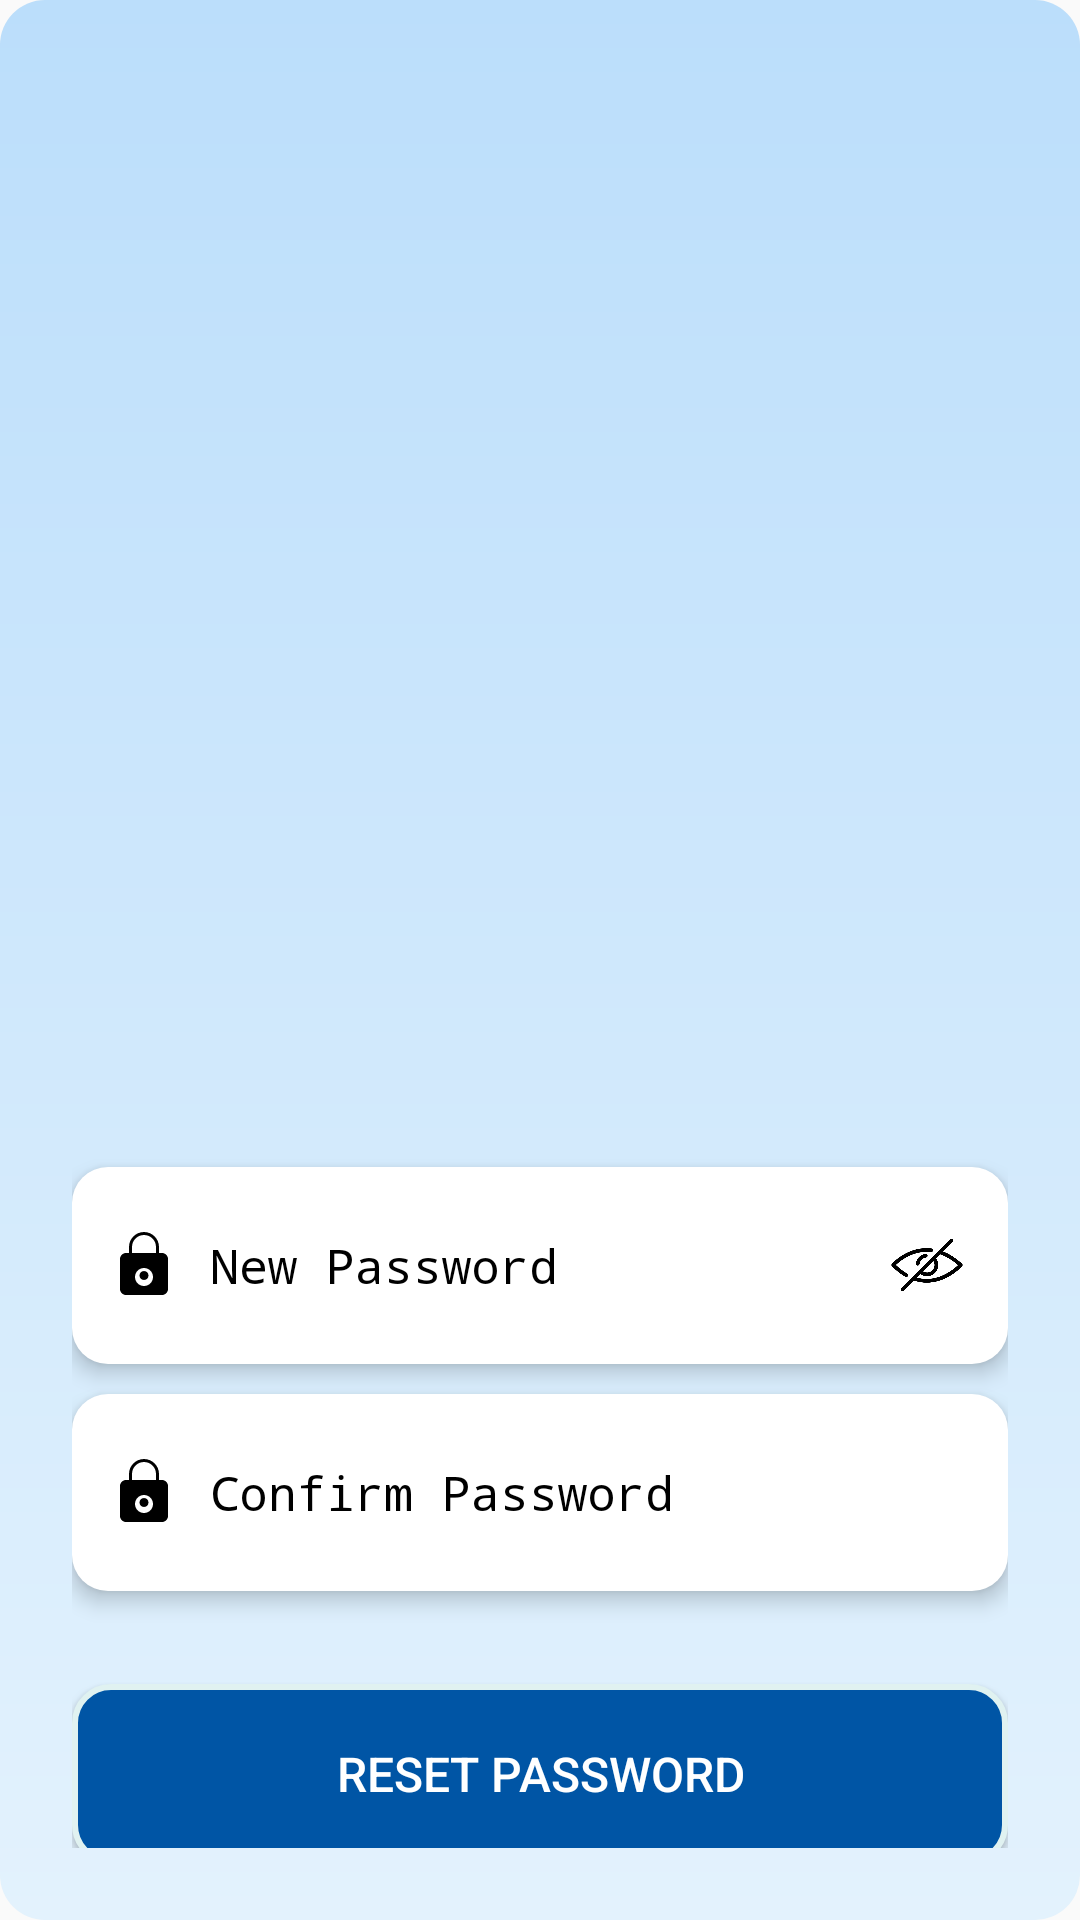

Icons on this 1080px×1920px Android screen, each with its box as (x1, y1, x2, y2):
eye closed: (891, 1239, 963, 1291)
lock: (120, 1232, 168, 1295), (120, 1459, 168, 1522)
